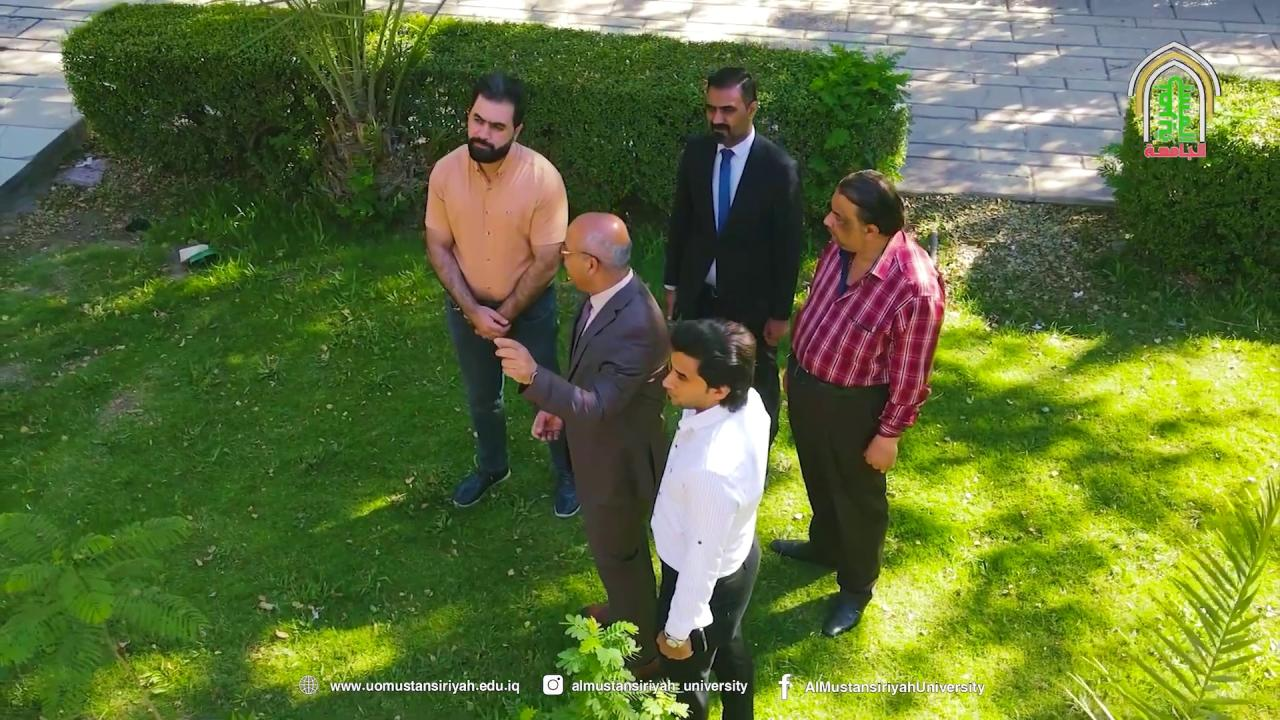person: (489, 210, 672, 679), (768, 169, 946, 637), (424, 70, 582, 518), (661, 66, 805, 470), (648, 316, 771, 718)
tree: (59, 0, 453, 223), (1061, 471, 1278, 719), (1094, 37, 1280, 290), (0, 507, 211, 718), (278, 0, 449, 208), (553, 611, 690, 718)
